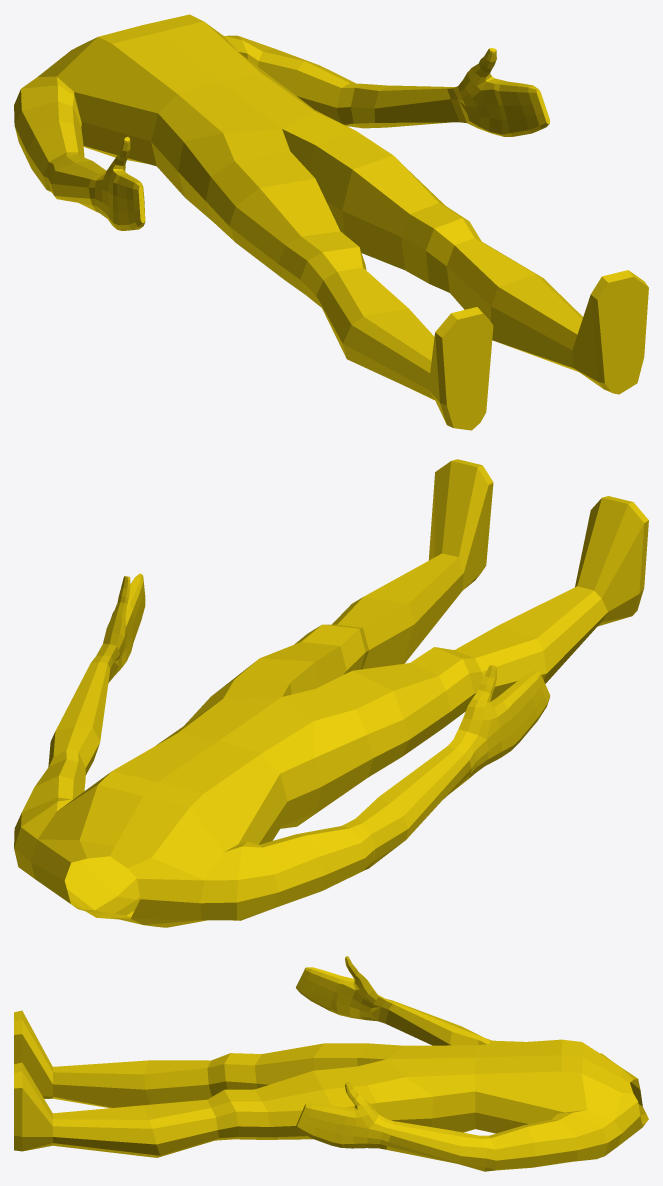
The model's file is DeadBody.fbx.
3 views of the same model, one above another, from view 1: azimuth 30°, elevation 25°; view 2: azimuth 150°, elevation 25°; view 3: azimuth 270°, elevation 25° (orthographic). The views are drawn at different scales.
Visible parts, largest first — view 1: Cube.001, Cube.002; view 2: Cube.001, Cube.002; view 3: Cube.001, Cube.002.
Part boxes in pixels (box(x1,y1,x2,y2)): Cube.001: box(14, 14, 648, 430); Cube.002: box(48, 48, 549, 230); Cube.001: box(14, 459, 648, 927); Cube.002: box(48, 573, 550, 868); Cube.001: box(14, 1010, 648, 1171); Cube.002: box(296, 956, 486, 1171).
Bounding box in the file's own units: 78.18 × 30.89 × 148.
